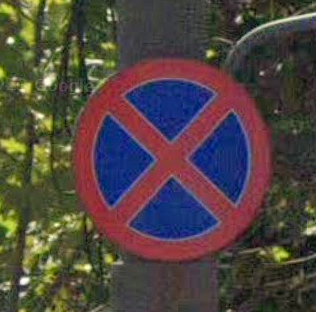oprirea_interzisa: (71, 55, 275, 263)
